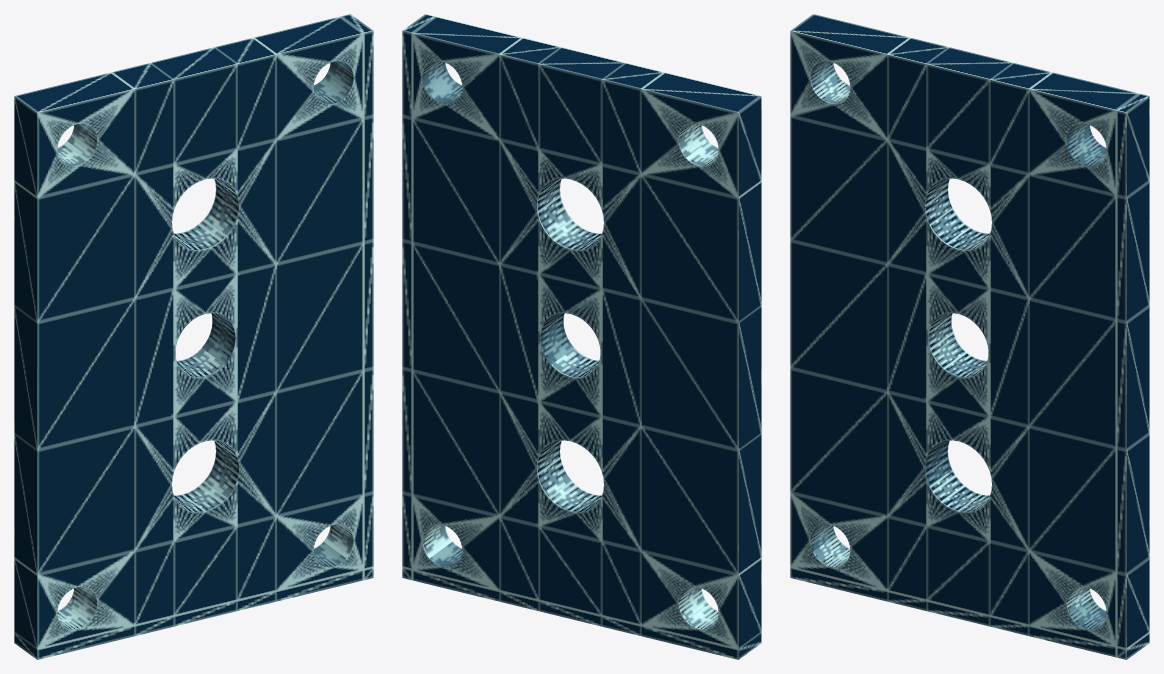
File: Mold4-Spacer plate-M.glb
3 views of the same model, side by side, from view 1: azimuth 30°, elevation 25°; view 2: azimuth 150°, elevation 25°; view 3: azimuth 330°, elevation 25° (orthographic).
Visible parts, largest first — view 1: GERGTGQ - CALE10-1; view 2: GERGTGQ - CALE10-1; view 3: GERGTGQ - CALE10-1.
Part boxes in pixels (box(x1,y1,x2,y2)): GERGTGQ - CALE10-1: box(14, 14, 373, 659); GERGTGQ - CALE10-1: box(402, 14, 761, 659); GERGTGQ - CALE10-1: box(790, 14, 1149, 659).
Bounding box in the file's own units: 5.98 × 9.29 × 0.7121.
1 material, 1 textured.
